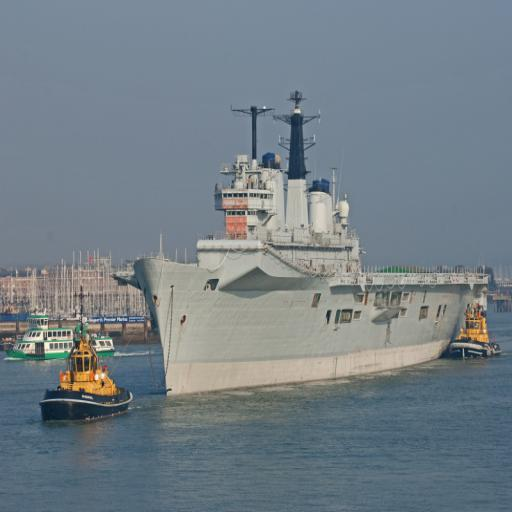Portanaves: (125, 80, 493, 403)
